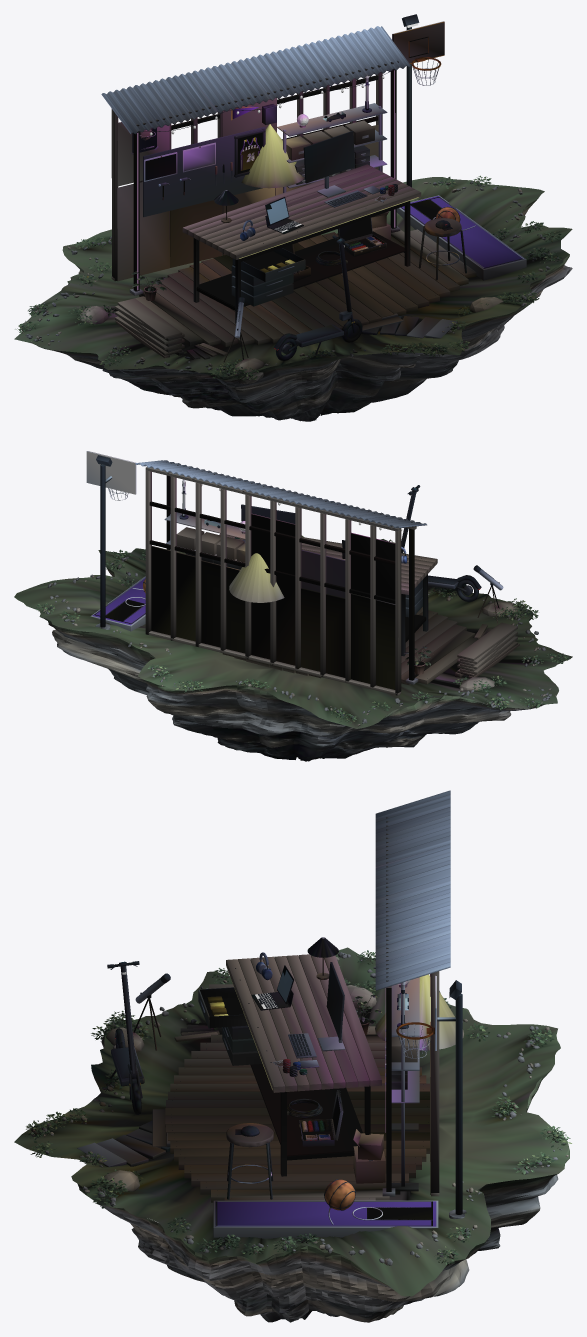
The model's file is flight-projects-c6f88a2f.glb.
3 renders of one model, top to bottom at view 1: azimuth 30°, elevation 25°; view 2: azimuth 150°, elevation 25°; view 3: azimuth 270°, elevation 25°, orthographic. The views are drawn at different scales.
Visible parts, largest first — view 1: Projects island · flight.001; view 2: Projects island · flight.001; view 3: Projects island · flight.001.
Part boxes in pixels (x1,y1,x2,y2): Projects island · flight.001: (14, 14, 572, 421); Projects island · flight.001: (14, 451, 572, 761); Projects island · flight.001: (14, 790, 571, 1322).
Size of the model in its own units: 12.7 by 7.16 by 8.69.
